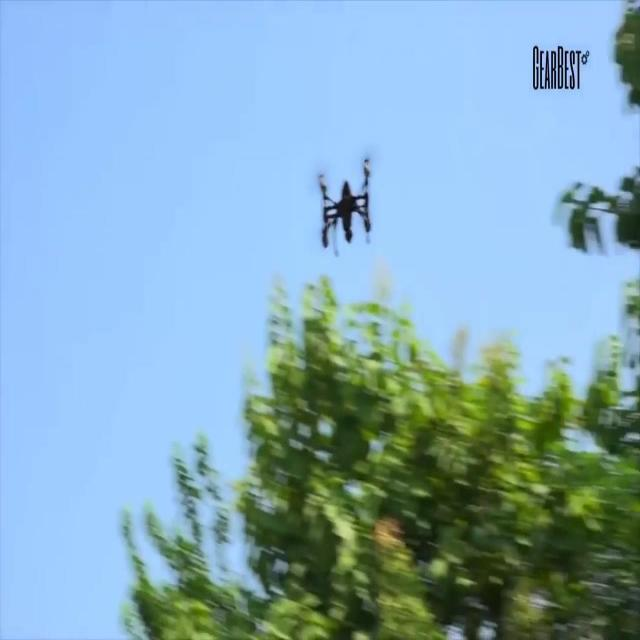UAV: (316, 156, 373, 256)
